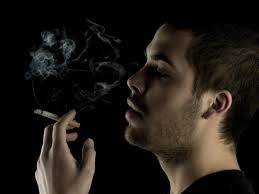sigaretta: (33, 106, 87, 131)
